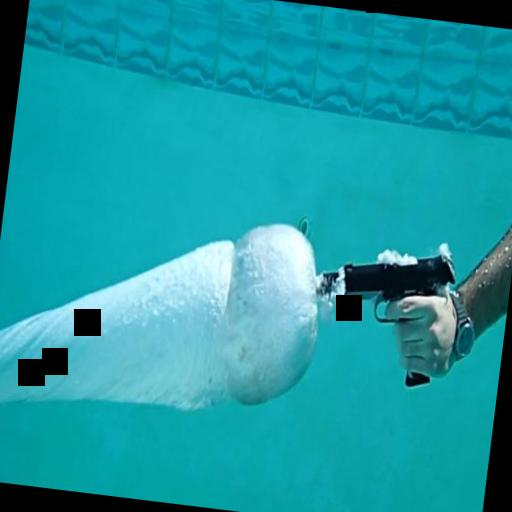Handgun: (306, 236, 457, 392)
